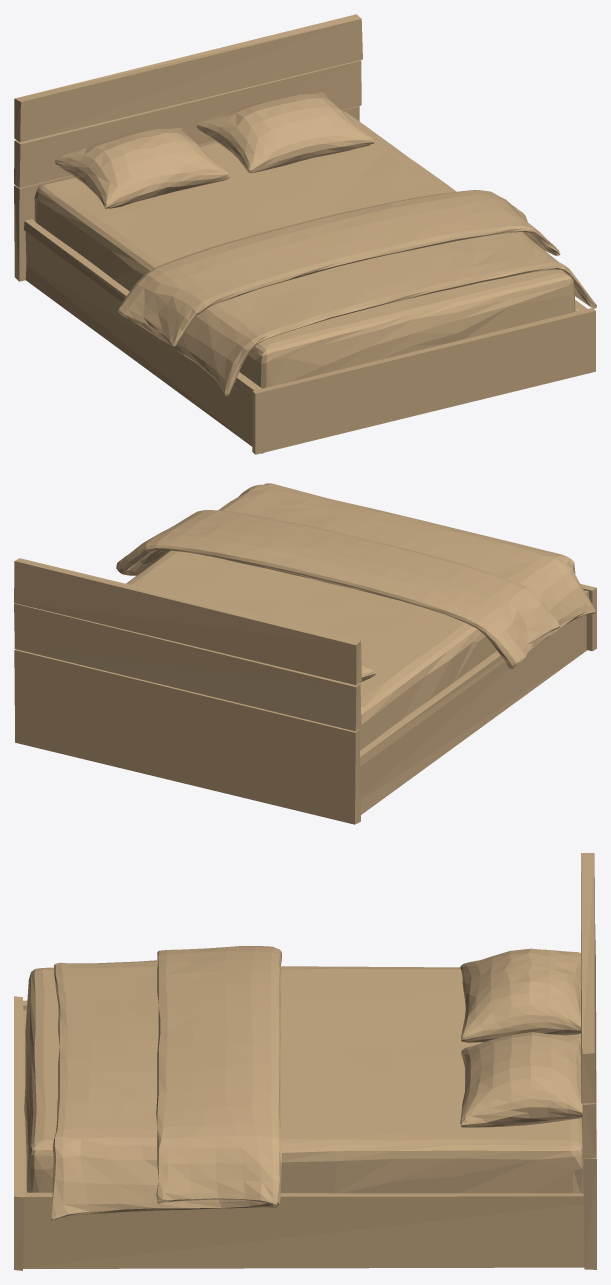
File: gen-bed-double-1.glb
3 views of the same model, one above another, from view 1: azimuth 30°, elevation 25°; view 2: azimuth 150°, elevation 25°; view 3: azimuth 270°, elevation 25° (orthographic). The views are drawn at different scales.
Visible parts, largest first — view 1: gen-bed-double-1_part1; view 2: gen-bed-double-1_part1; view 3: gen-bed-double-1_part1.
Part boxes in pixels (x1,y1,x2,y2): gen-bed-double-1_part1: (14,14,596,454); gen-bed-double-1_part1: (14,483,596,824); gen-bed-double-1_part1: (14,853,596,1270).
Bounding box in the file's own units: 2213 × 950 × 2289.
